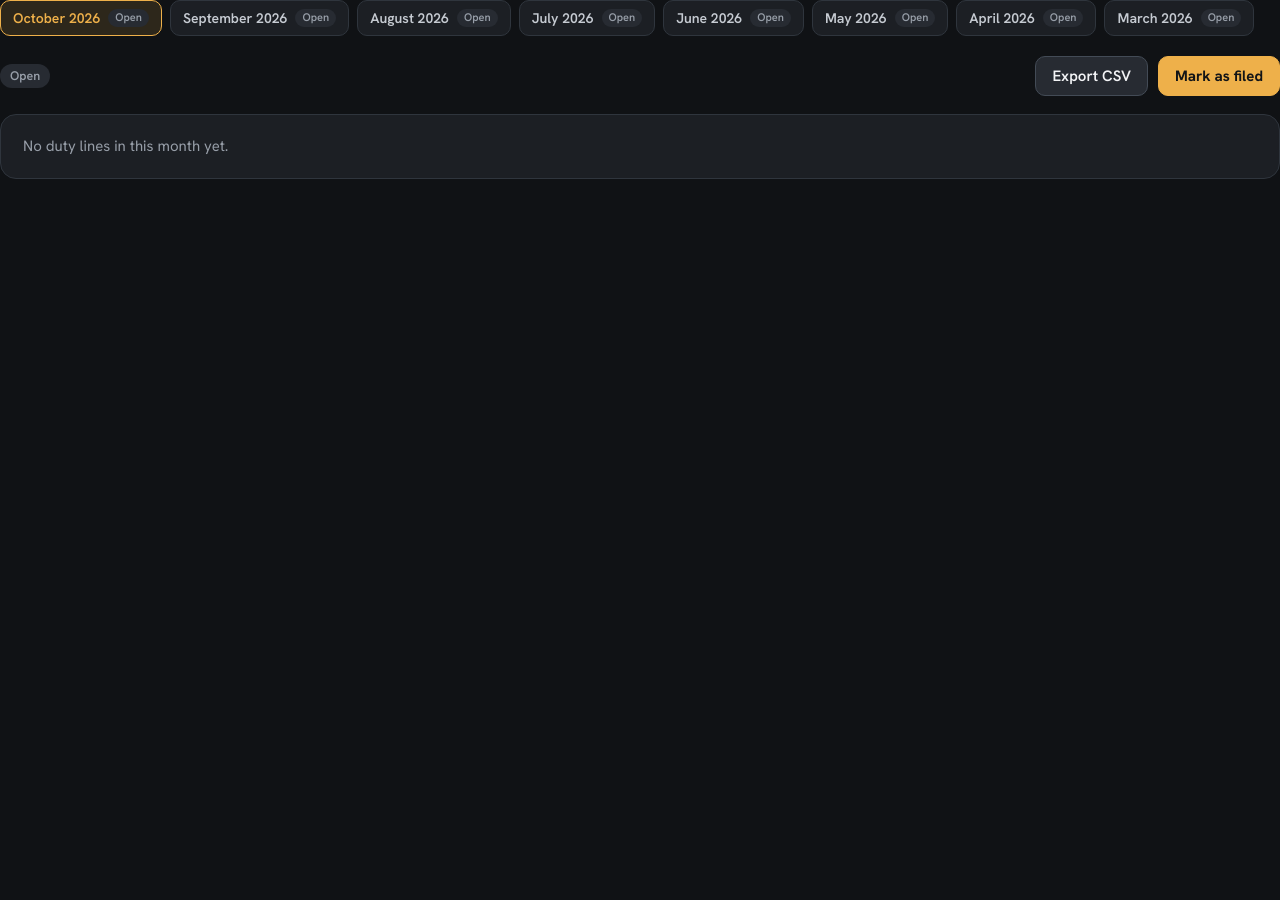
MonthlyReturn filing › keeps the dialog open and shows the error when filing fails
This screenshot has width=1280, height=900.
Click the button "Mark as filed" at (1219, 76), box [1158,56,1279,96]
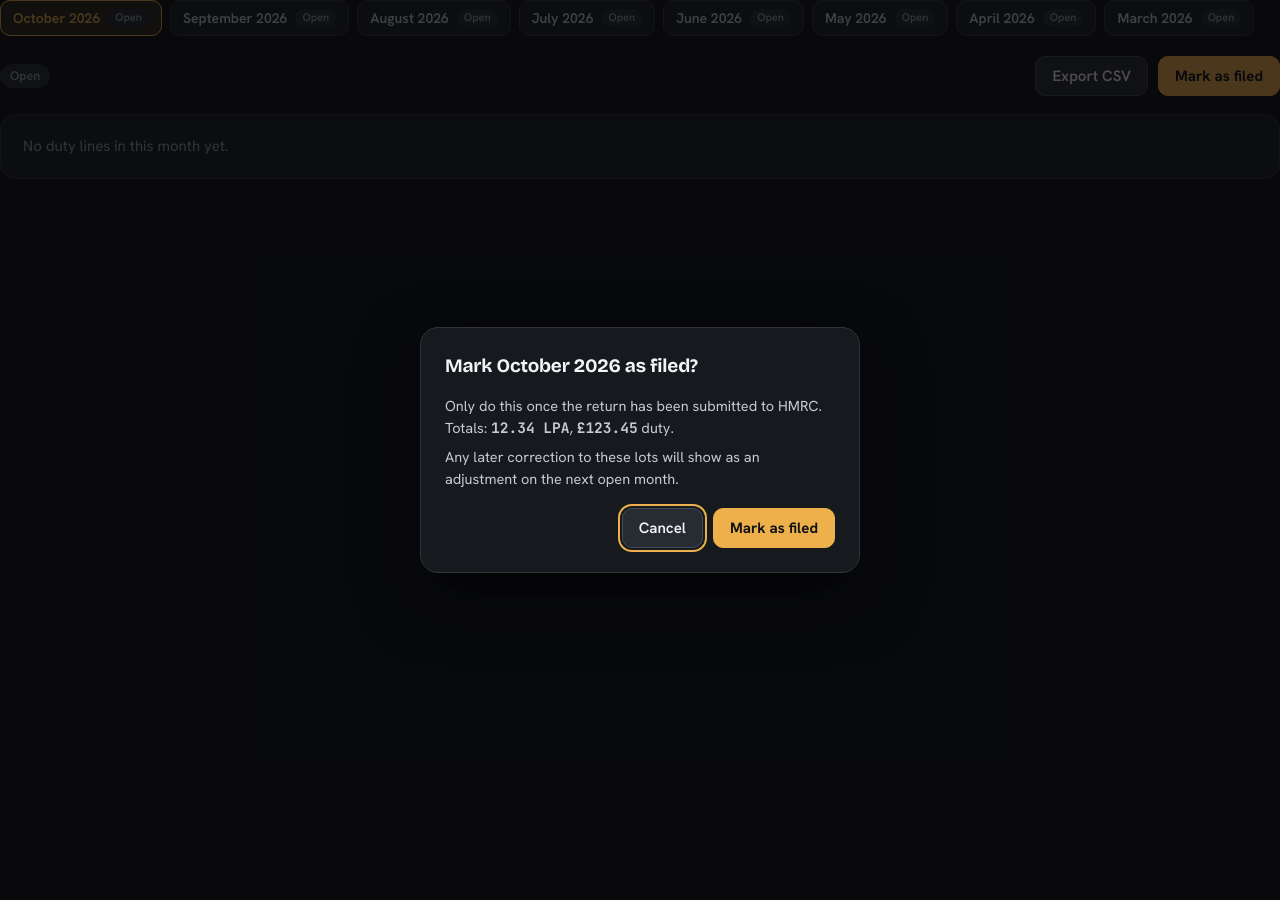
Click the button "Mark as filed" at (774, 528), box [713,508,835,548]
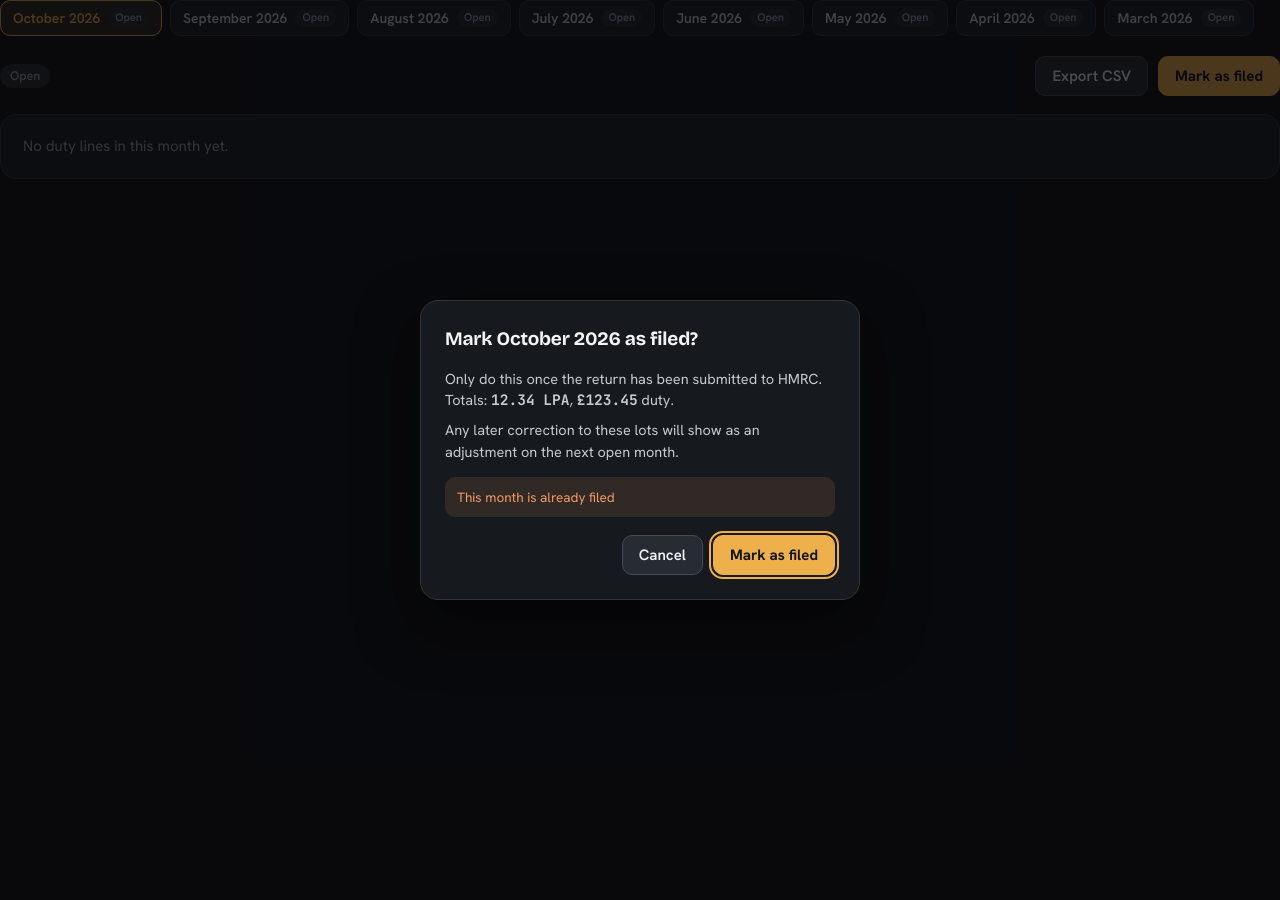
Check: the message reads "This month is already filed", box [457,488,615,506]
